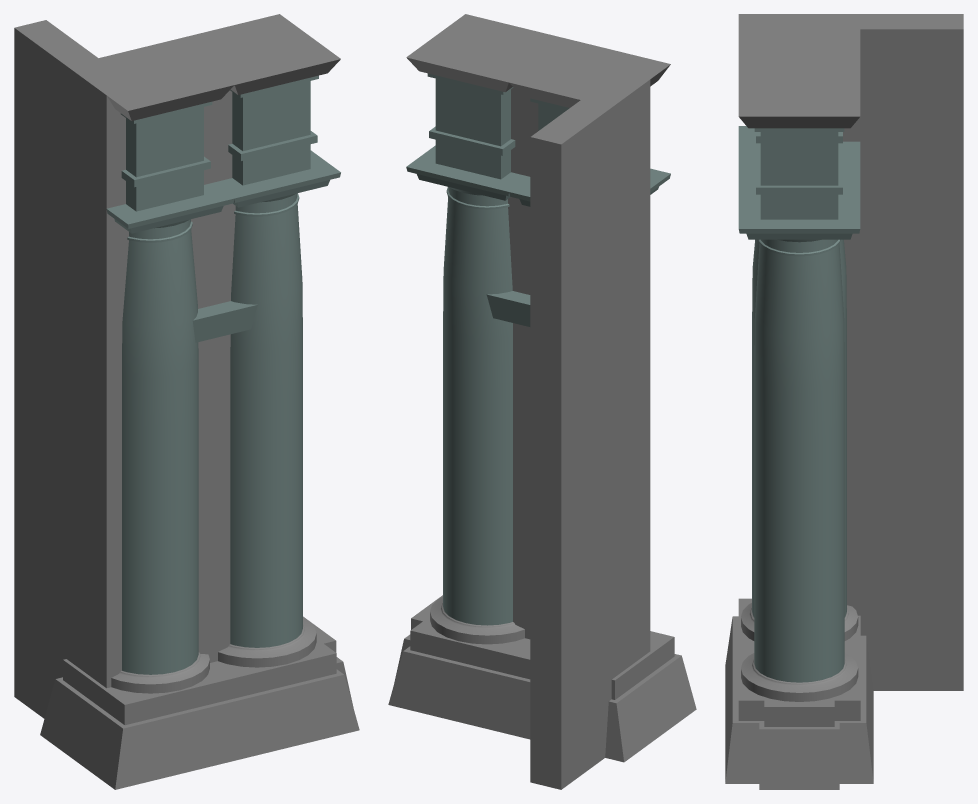
Rendered from SM_Build01_Wall_02.fbx.
3 renders of one model, left to right at view 1: azimuth 30°, elevation 25°; view 2: azimuth 150°, elevation 25°; view 3: azimuth 270°, elevation 25°, orthographic. The views are drawn at different scales.
Visible parts, largest first — view 1: SM_Build01_Wall_02; view 2: SM_Build01_Wall_02; view 3: SM_Build01_Wall_02.
Boxes of the visible parts, box(x1,y1,x2,y2) form: SM_Build01_Wall_02: box(14, 14, 359, 789); SM_Build01_Wall_02: box(388, 14, 696, 789); SM_Build01_Wall_02: box(725, 14, 963, 789).
Size of the model in its own units: 241 by 600 by 196.
